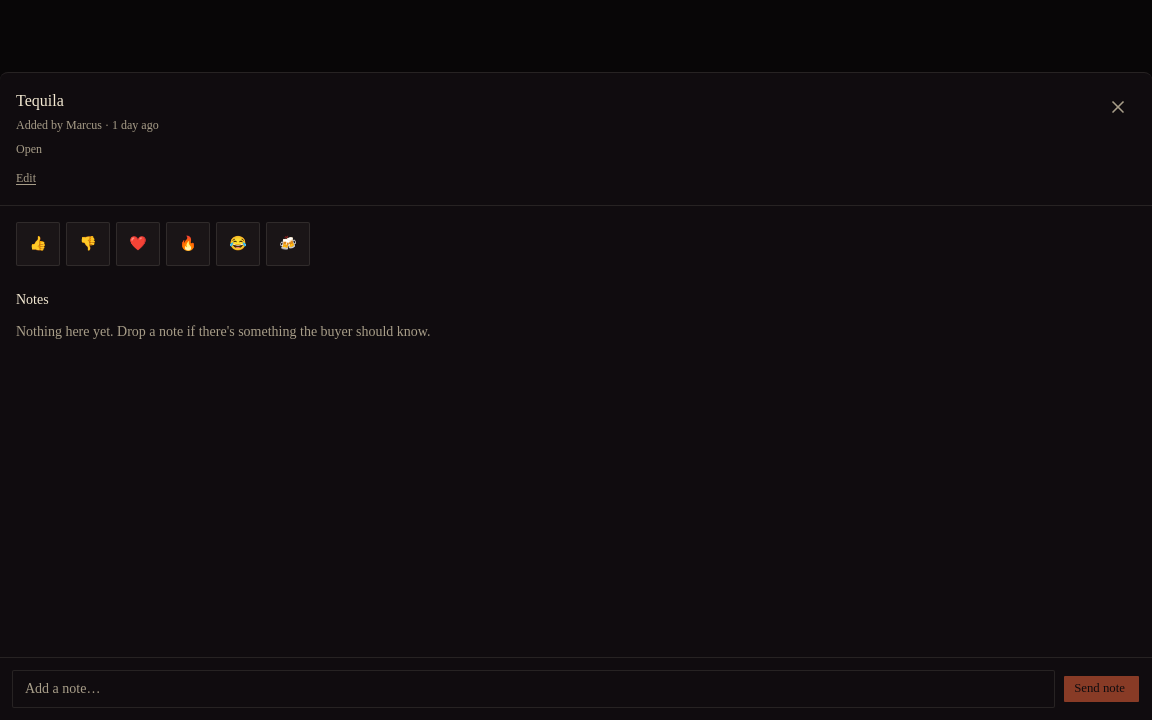
Test: <ShoppingItemSheet /> › (e) a non-rls_denied reaction failure surfaces the generic reaction error, NOT shopping_item_gone
Step 1. Click the button named "thumbs up" → (38, 244), box [16,222,60,266]
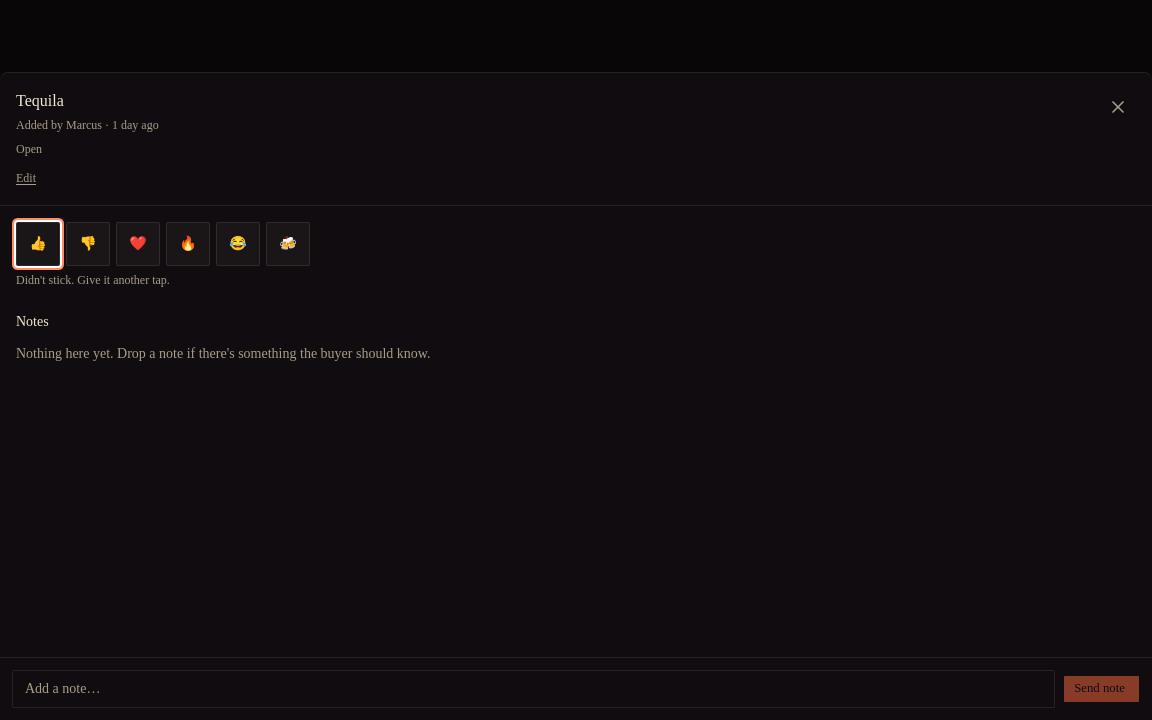
expect the message reads "Didn't stick. Give it another tap.": met, box [16,273,170,287]
